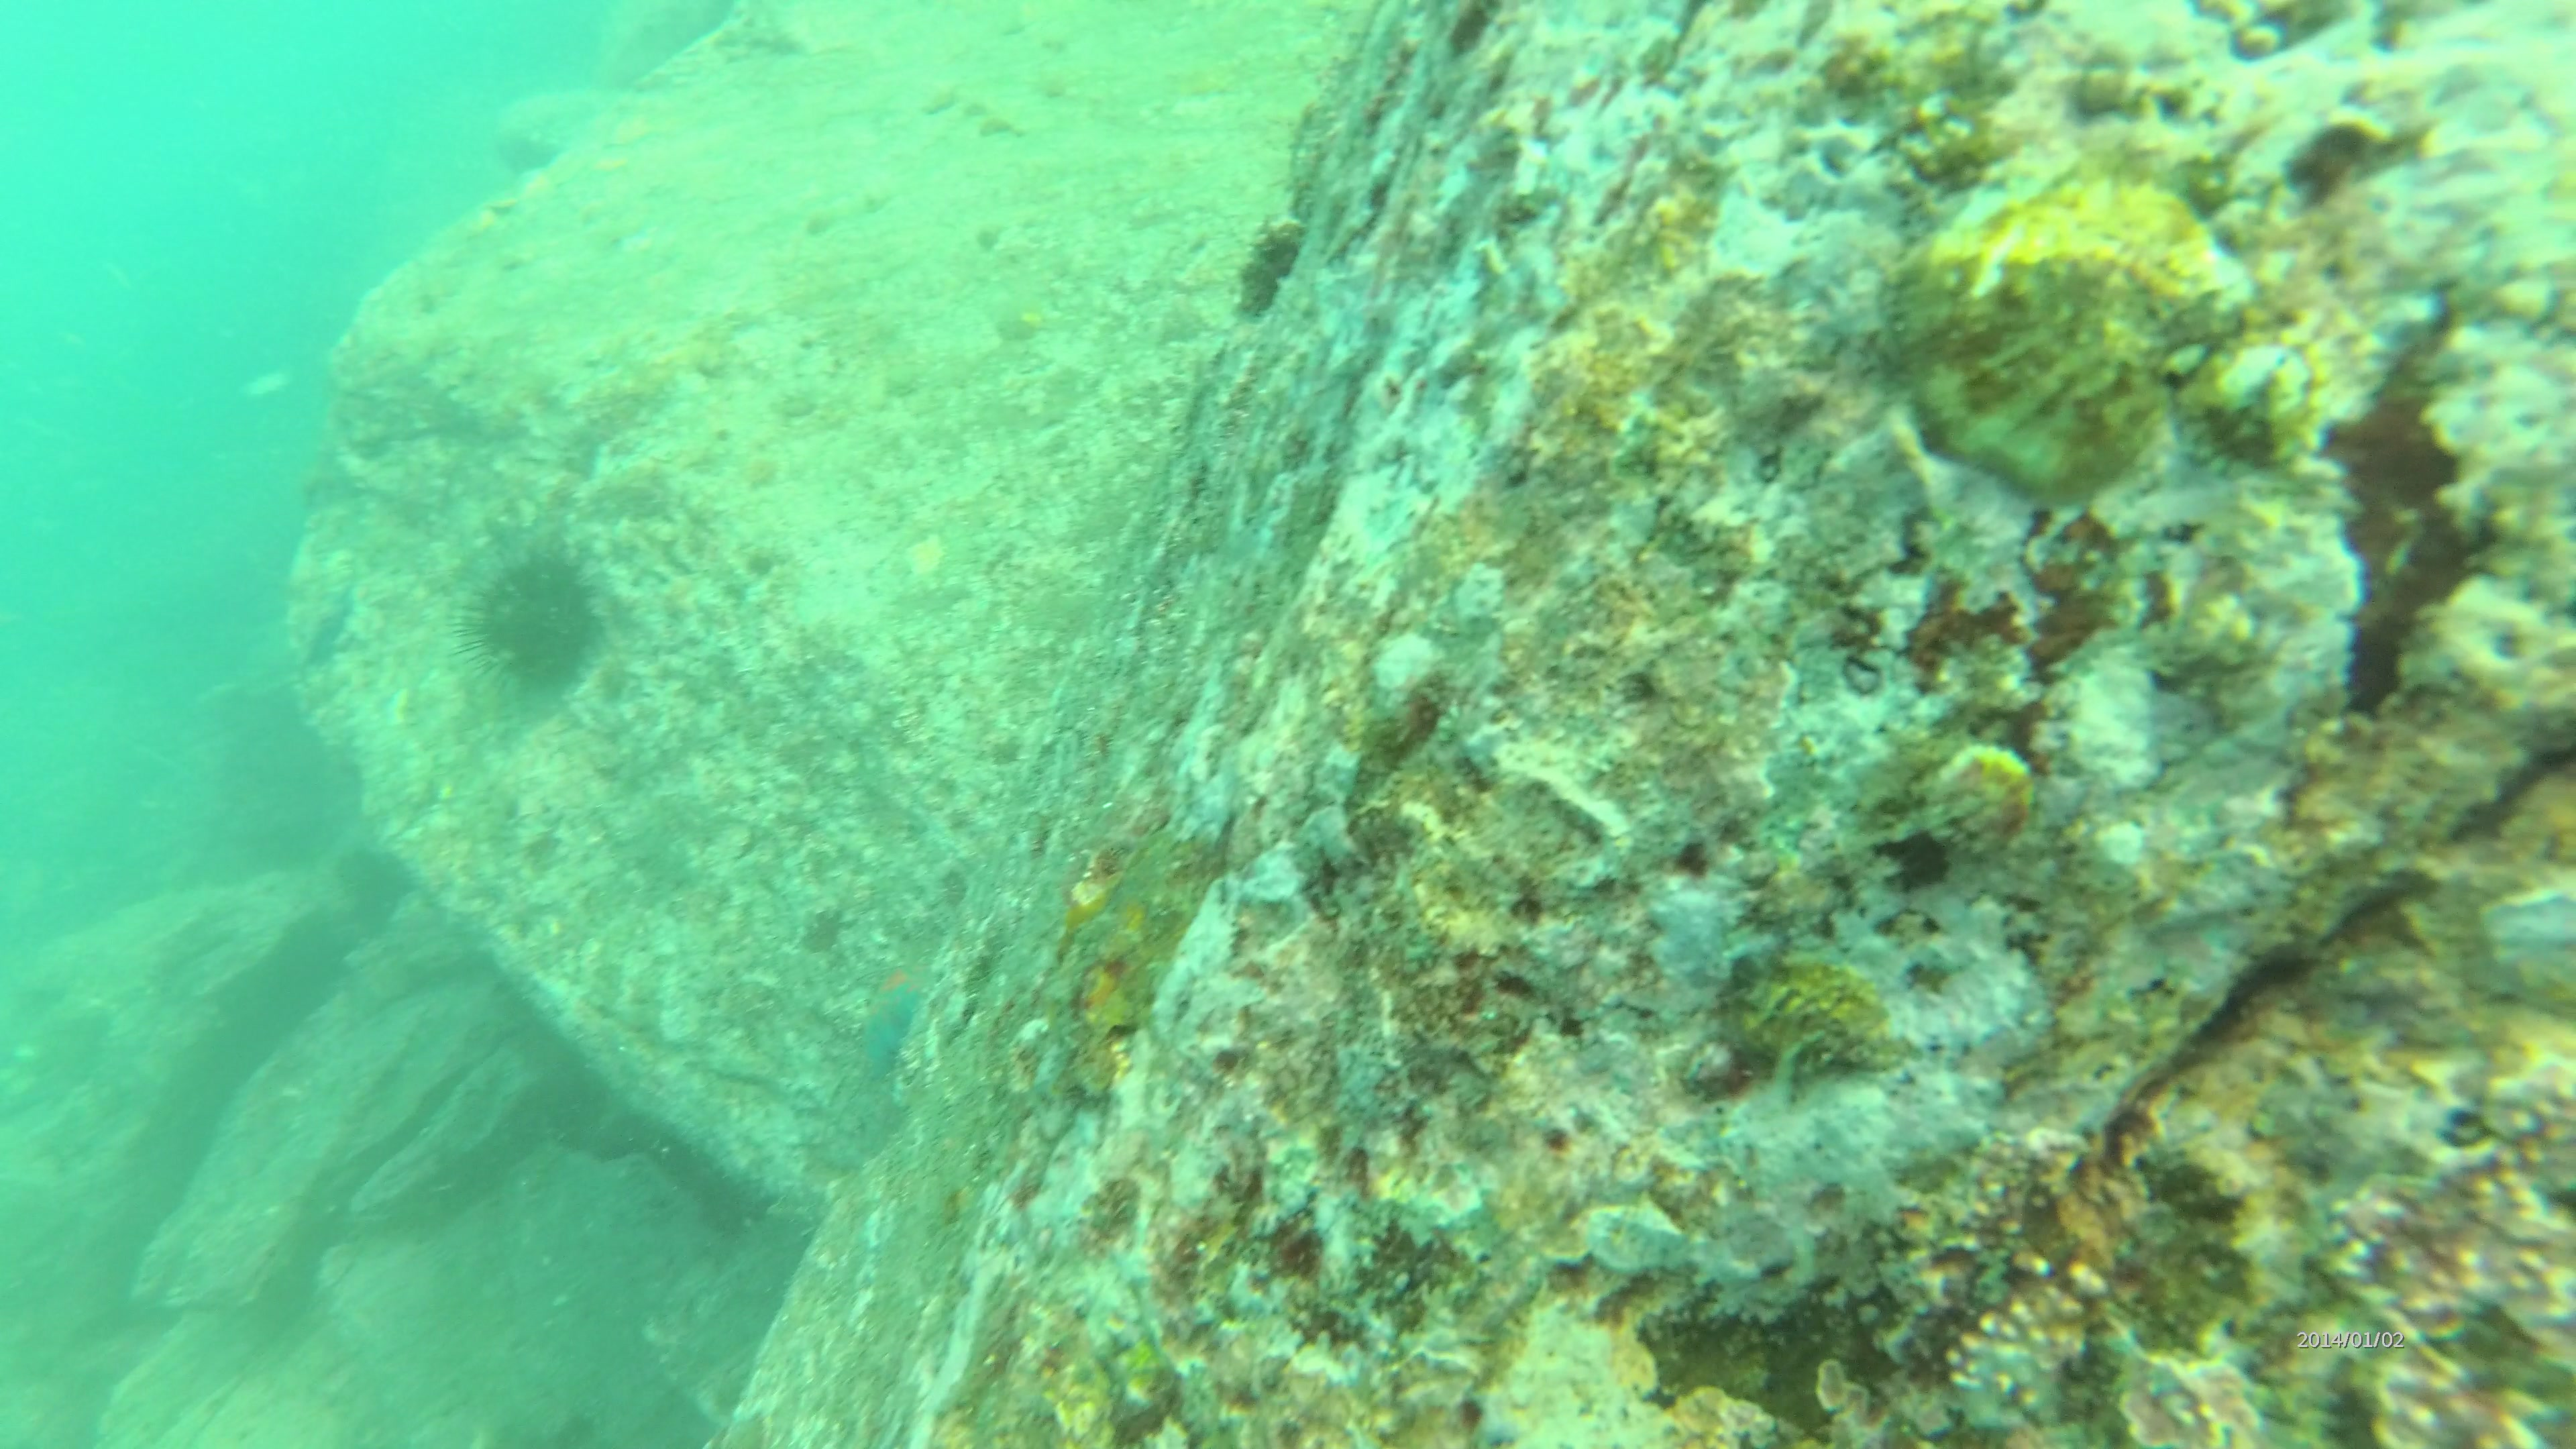echinus: (448, 543, 607, 702)
scallop: (1886, 165, 2249, 497)
